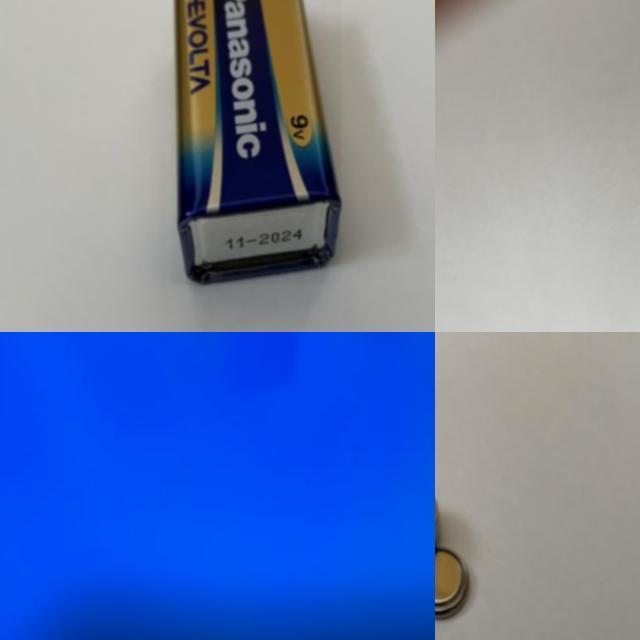9V: (172, 0, 341, 284)
